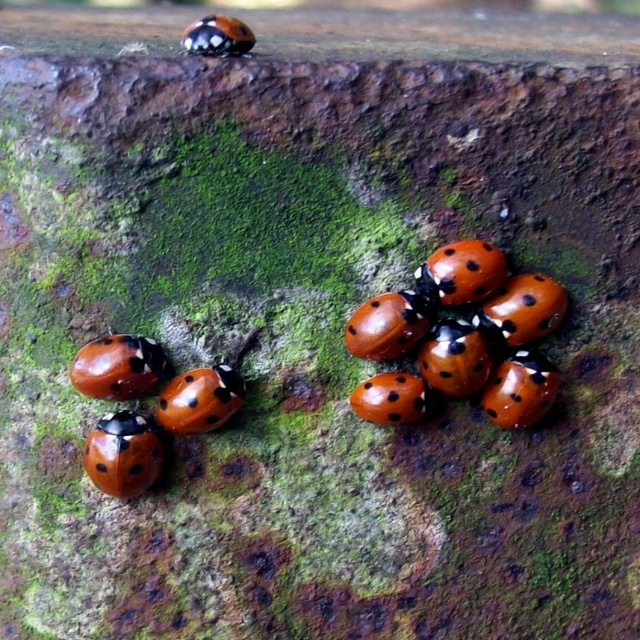Ladybug: (351, 238, 567, 432), (157, 326, 260, 439), (87, 408, 168, 499), (67, 333, 158, 400), (181, 12, 256, 57)
